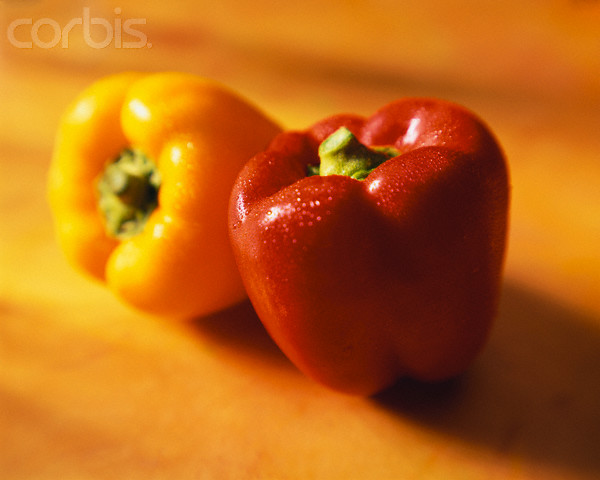capsicum: (225, 96, 514, 400), (43, 68, 288, 322)
